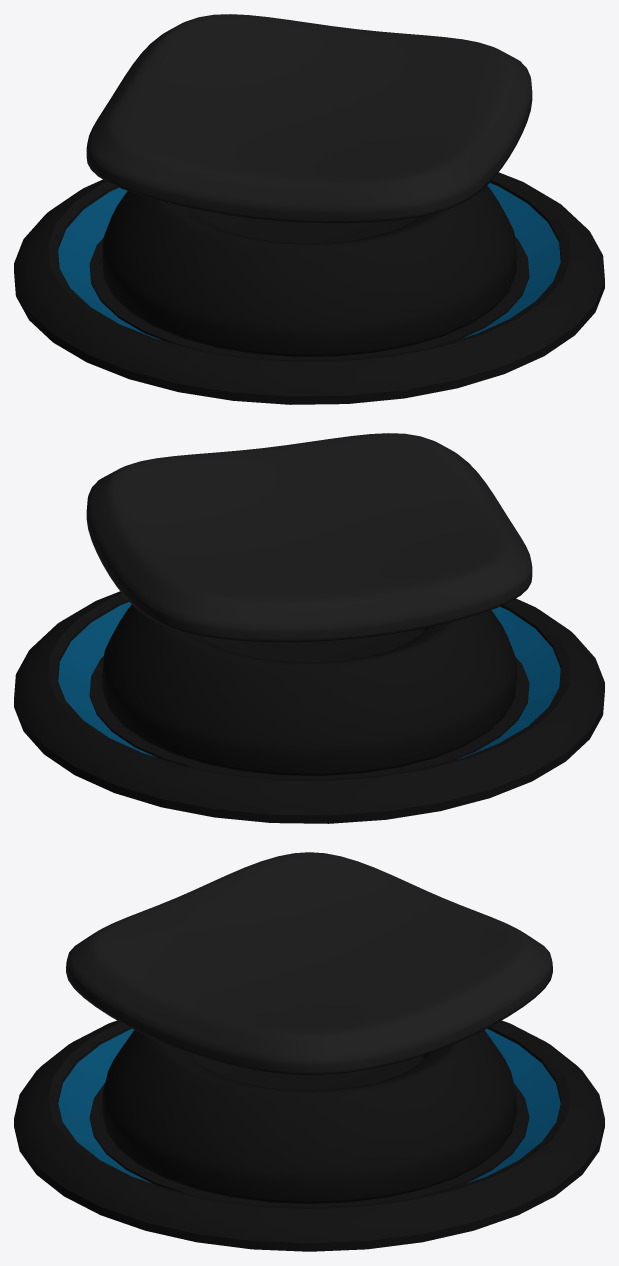
Rendered from victrixrocker.glb.
3 views of the same model, one above another, from view 1: azimuth 30°, elevation 25°; view 2: azimuth 150°, elevation 25°; view 3: azimuth 270°, elevation 25° (orthographic).
Visible parts, largest first — view 1: DPad_Rocker, Circle, Circle.001, DPad_Up_Left, DPad_Right, DPad_Down_Right, DPad_Left; view 2: DPad_Rocker, Circle, Circle.001, DPad_Down_Left, DPad_Right, DPad_Up_Right, DPad_Left; view 3: DPad_Rocker, Circle, Circle.001, DPad_Down, DPad_Up, DPad_Down_Left, DPad_Up_Left.
Boxes of the visible parts, <box> form: DPad_Rocker: <box>86,14,532,223</box>; Circle: <box>102,186,516,356</box>; Circle.001: <box>14,172,604,404</box>; DPad_Up_Left: <box>58,192,119,283</box>; DPad_Right: <box>487,183,558,259</box>; DPad_Down_Right: <box>485,243,560,327</box>; DPad_Left: <box>61,271,160,339</box>; DPad_Rocker: <box>86,433,532,642</box>; Circle: <box>102,605,516,775</box>; Circle.001: <box>14,591,604,823</box>; DPad_Down_Left: <box>499,611,560,702</box>; DPad_Right: <box>60,602,131,678</box>; DPad_Up_Right: <box>58,662,133,746</box>; DPad_Left: <box>458,690,557,758</box>; DPad_Rocker: <box>66,852,552,1075</box>; Circle: <box>102,1030,516,1203</box>; Circle.001: <box>14,1020,604,1251</box>; DPad_Down: <box>58,1063,105,1153</box>; DPad_Up: <box>513,1063,560,1153</box>; DPad_Down_Left: <box>78,1028,134,1081</box>; DPad_Up_Left: <box>484,1028,540,1081</box>.
Bounding box in the file's own units: 1.2 × 0.4105 × 1.2.
